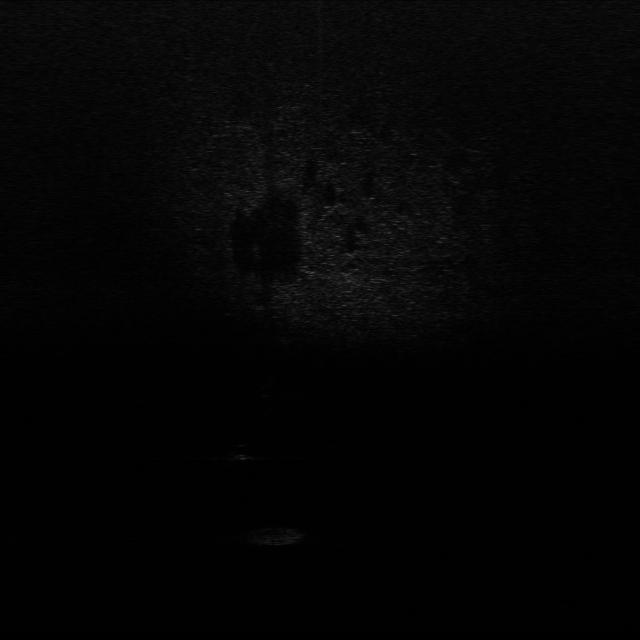ball: (227, 440, 262, 463)
circle cage: (249, 516, 312, 548)
